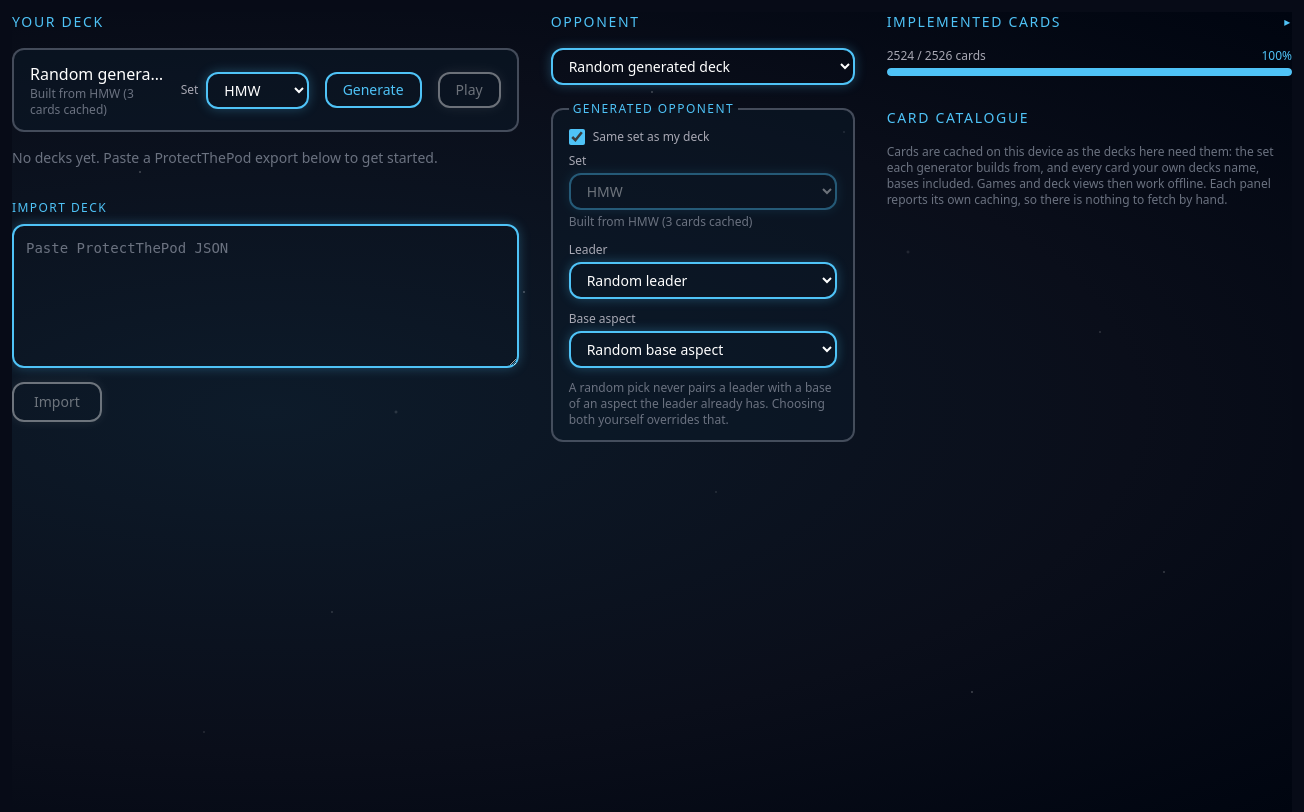
Test: DeckSelectScreen › the generated deck › says the cached set cannot fill a deck rather than offering a short one
Click the button with test id "generate-deck-button". click: point(373, 90)
box: [325,72,422,108]
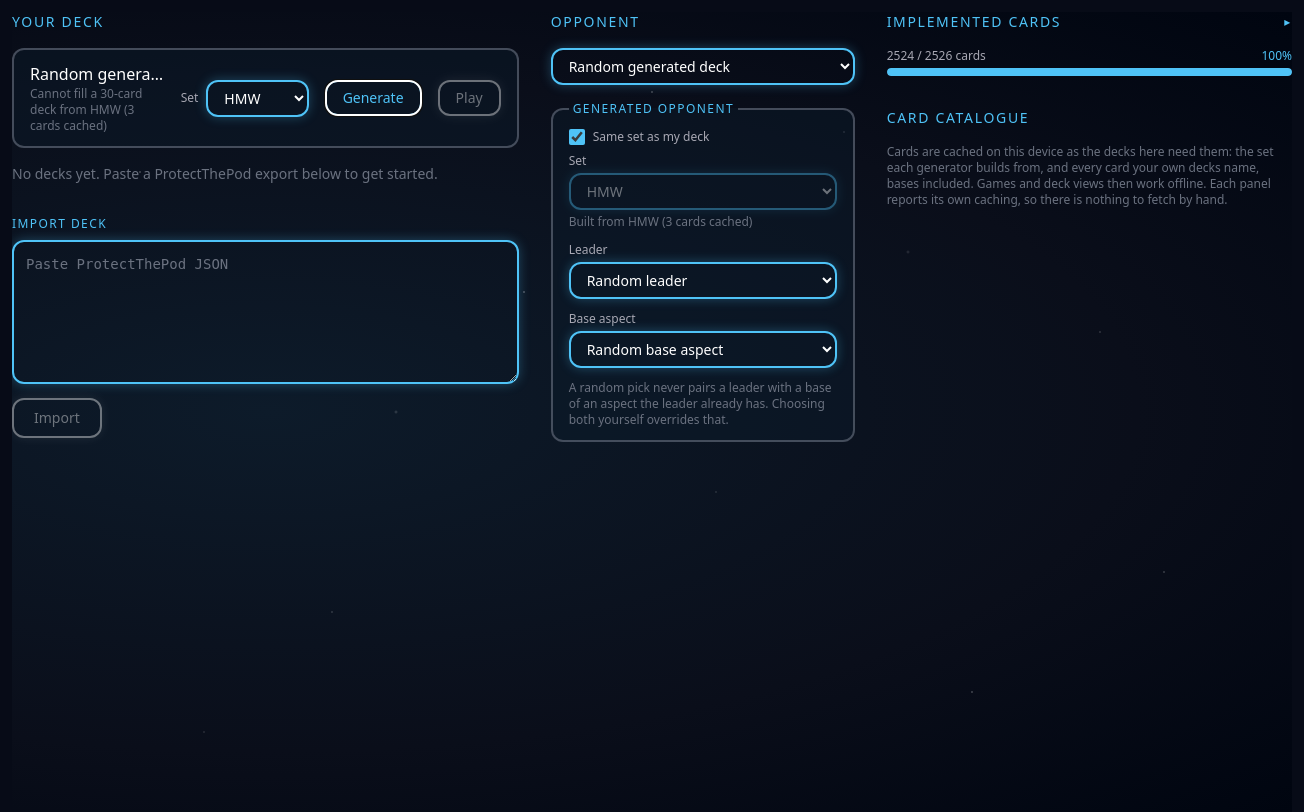
Expected: the button with test id "play-generated-button" is disabled, [438,80,501,116]
Now the text with test id "generated-deck-subtitle" shows "Cannot fill a 30-card deck from HMW", box [30,85,142,134]
